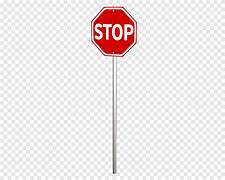stop: (91, 4, 137, 58)
